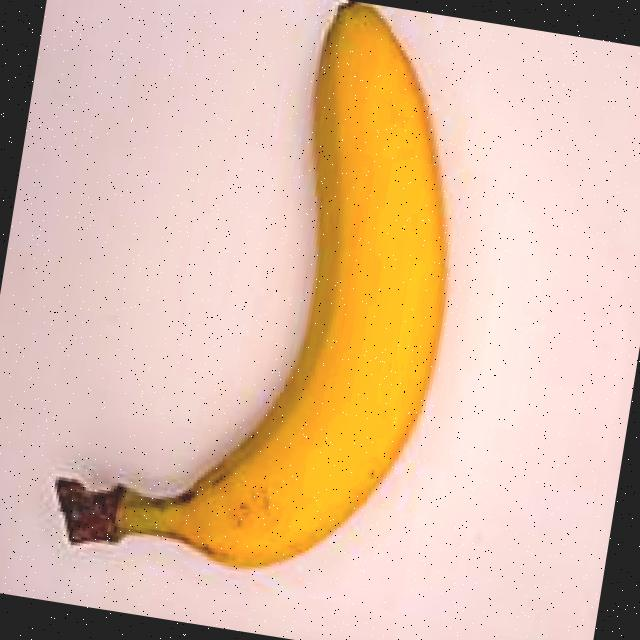Ripe: (17, 0, 542, 614)
